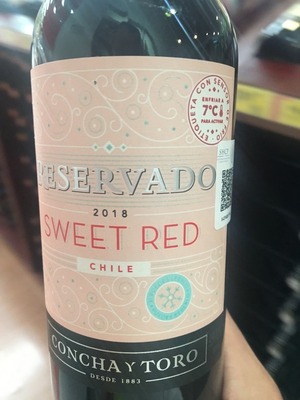reservado sweet red: (33, 20, 236, 390)
